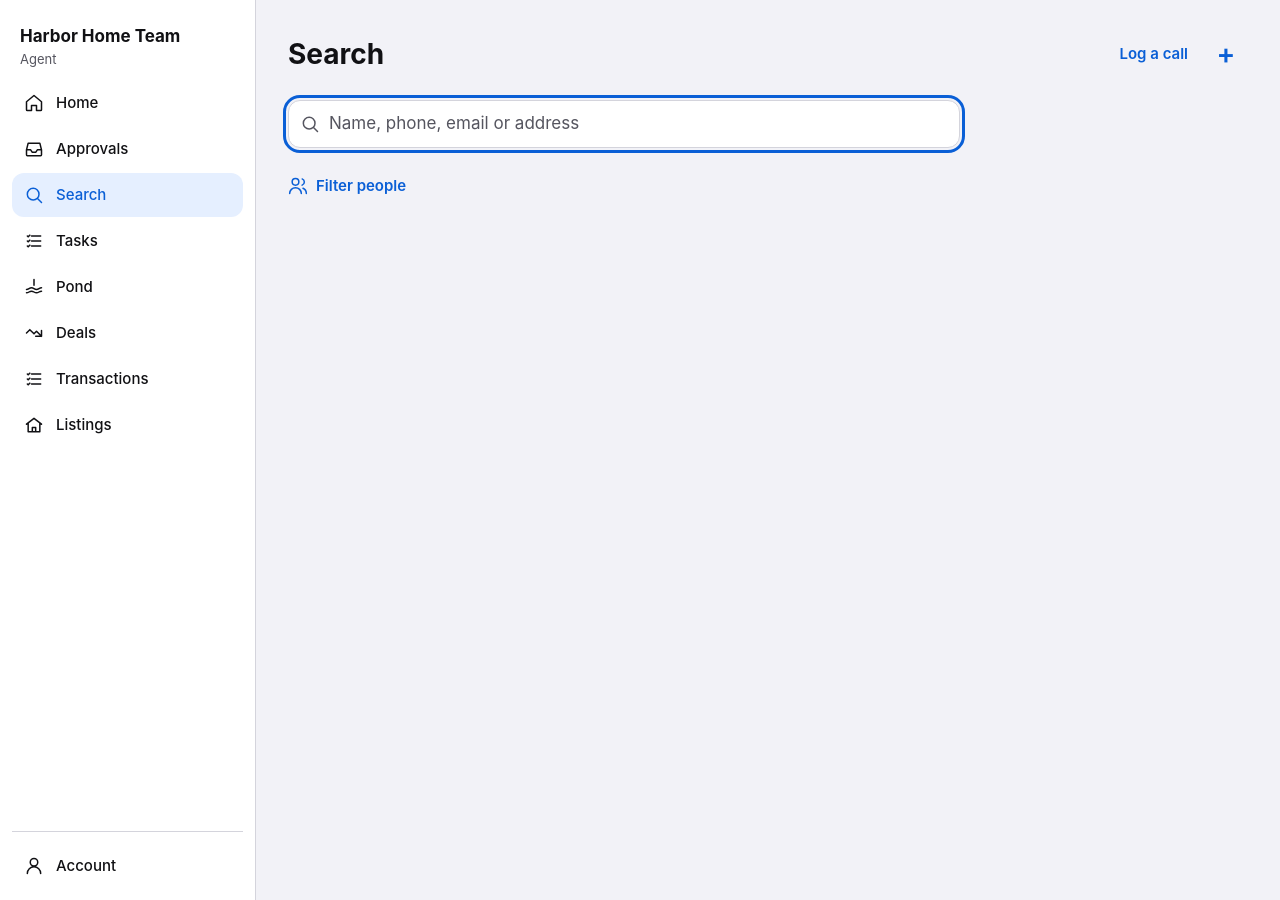
Test case: R-TODAY-9: "Log a call or conversation" from any screen › 4 taps when the person is recent (the entry → the person → an outcome → the one button); otherwise 4 taps and typing. On a page that is not Today; saved as a lo
This screenshot has width=1280, height=900.
Later steps or results of the test are not shown.
Click the button with aria-label "Log a call or conversation". click: (1154, 54)
box: x1=1112 y1=32 x2=1196 y2=76
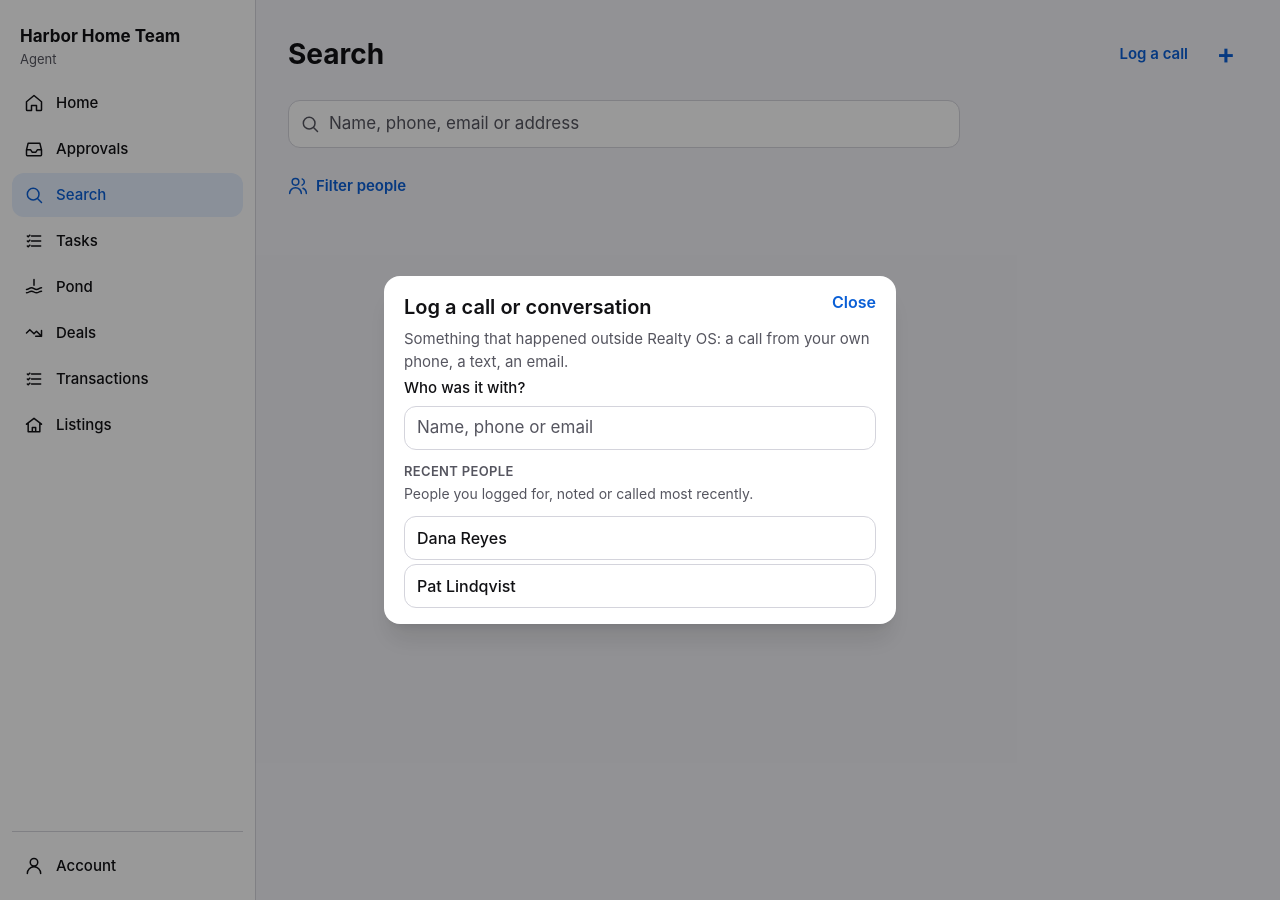
Check: the text "Recent people" is shown, box x1=404 y1=462 x2=514 y2=478
Click the button with aria-label "Log for ". click: (466, 586)
box: x1=404 y1=564 x2=876 y2=608
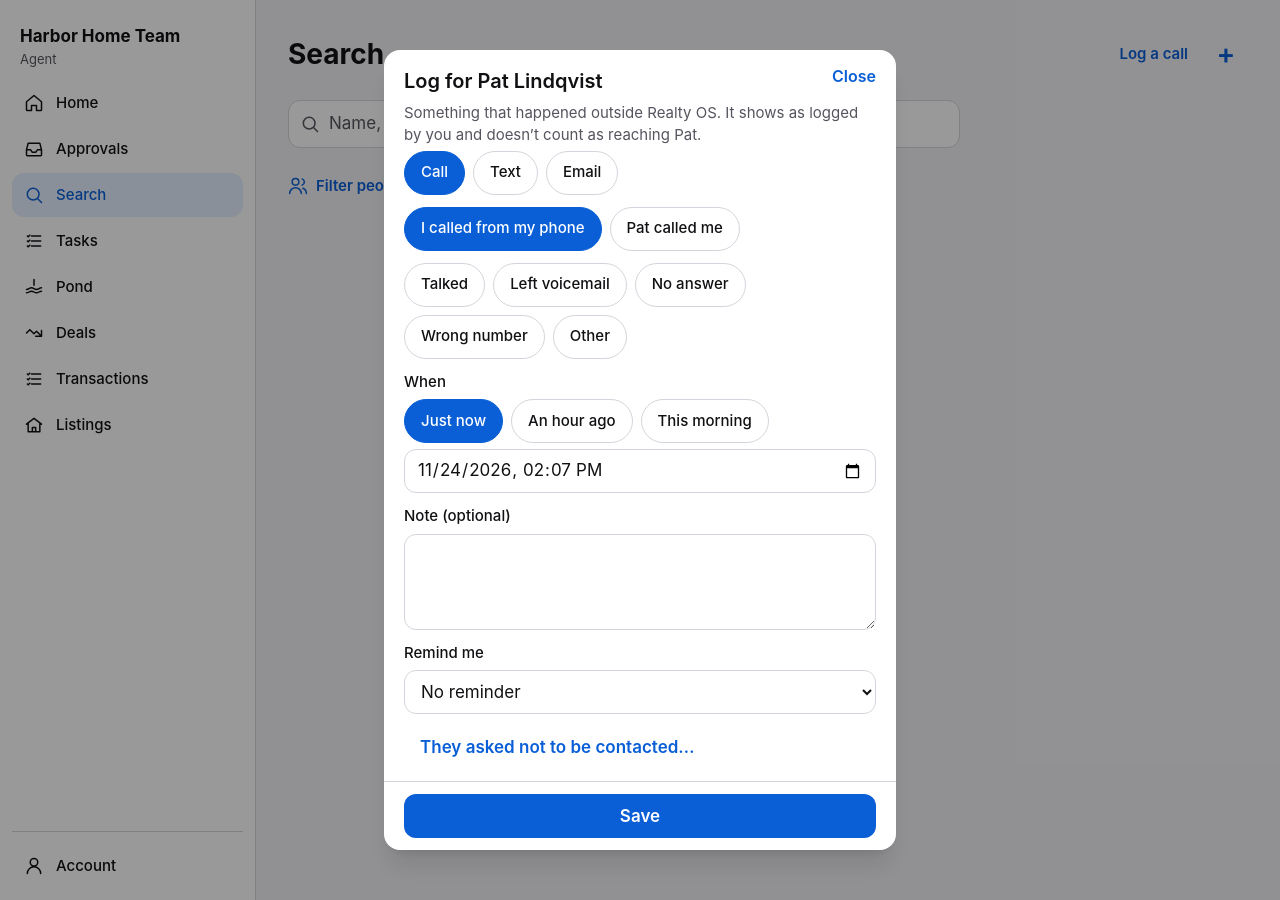
Check: the button "Call" is shown, box x1=404 y1=151 x2=465 y2=195
Check: the button "I called from my phone" is shown, box x1=404 y1=207 x2=602 y2=251
Click the button "Left voicemail". click: (560, 285)
box: x1=493 y1=263 x2=627 y2=307
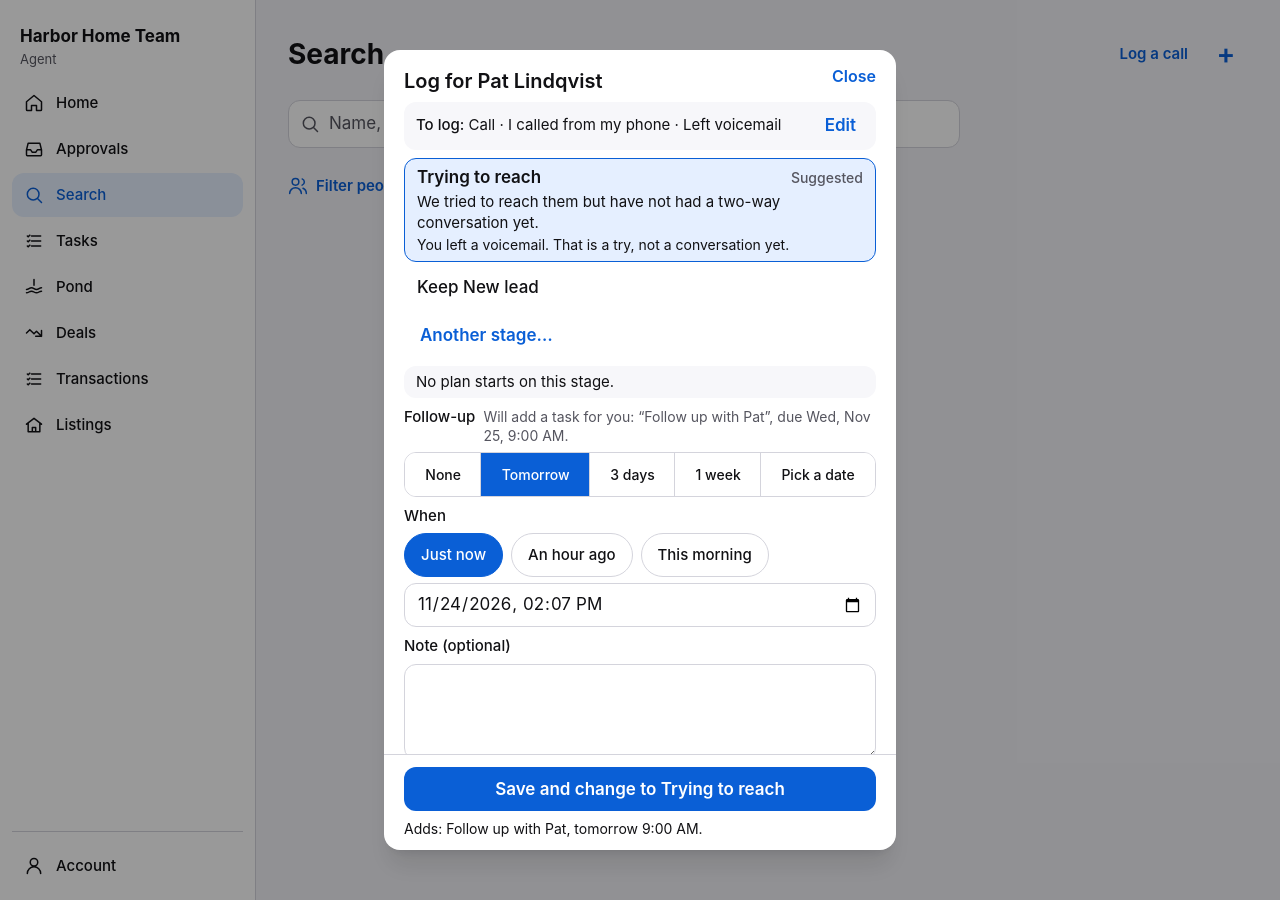
Check: the button "Save and change to Trying to reach" is enabled
Check: the text with test id "tap-effects" reads "Adds: Follow up with Pat, tomorrow 9:00 AM.", box x1=404 y1=820 x2=703 y2=837
Click the button "Save and change to Trying to reach". click: (640, 789)
box: x1=404 y1=767 x2=876 y2=811
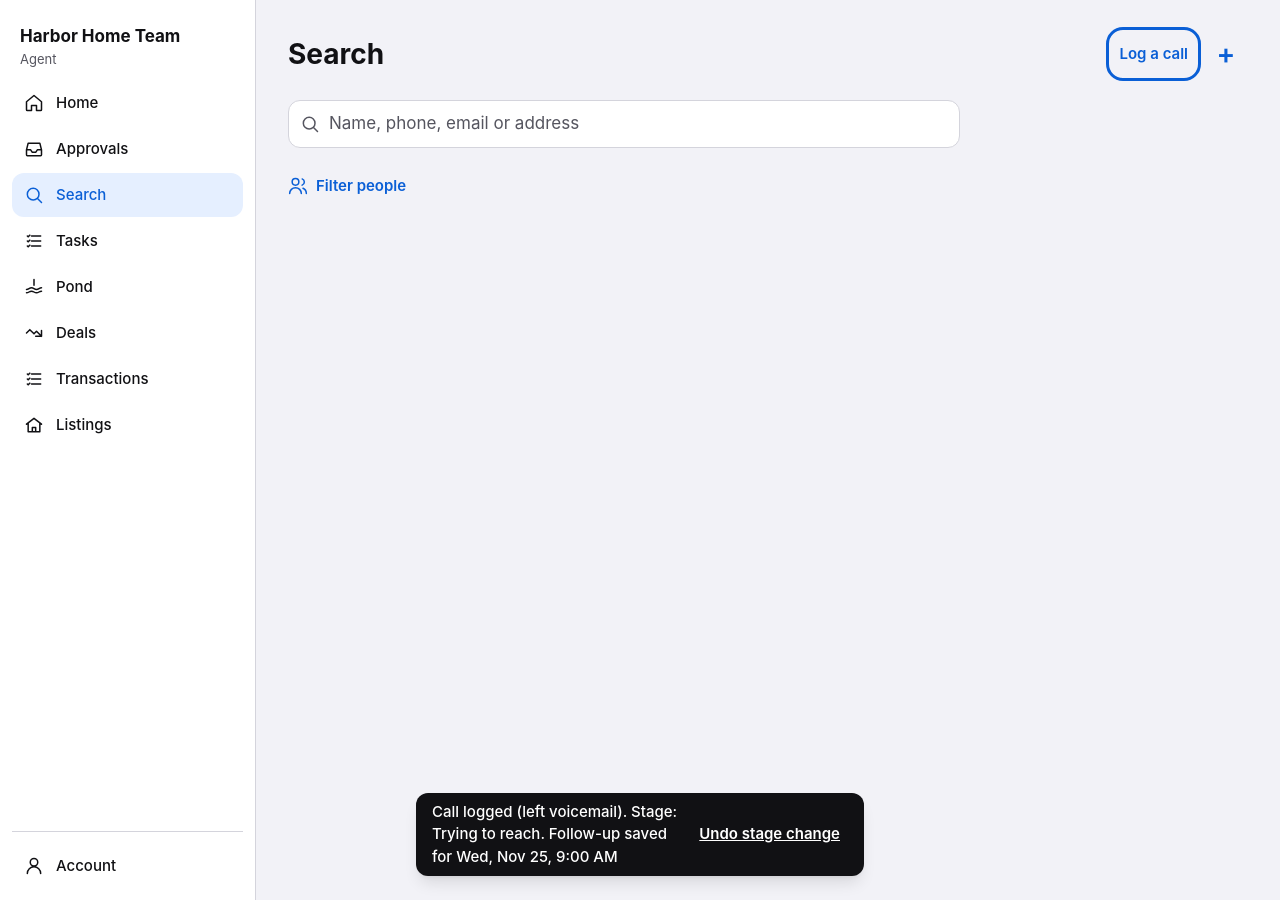
Check: the heading "Search" is shown, box x1=288 y1=37 x2=384 y2=71
Check: the dialog is gone
Check: the number of elements with test id "people-toast" is 1, box x1=416 y1=792 x2=864 y2=876
